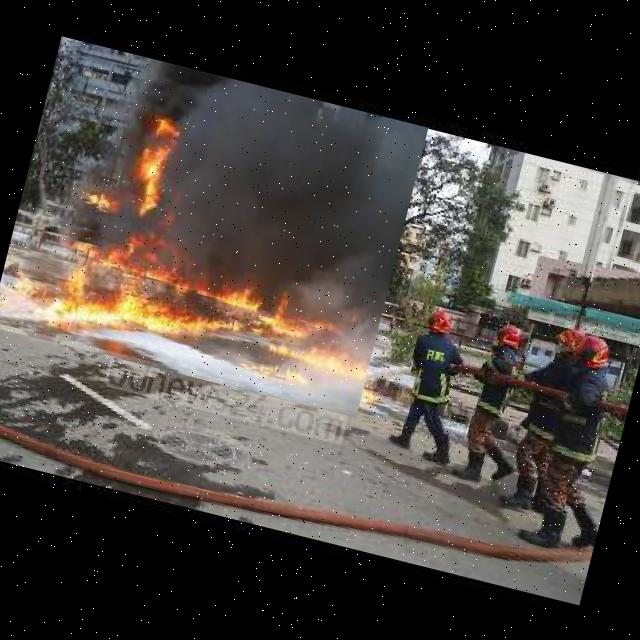fire: (0, 35, 428, 417)
